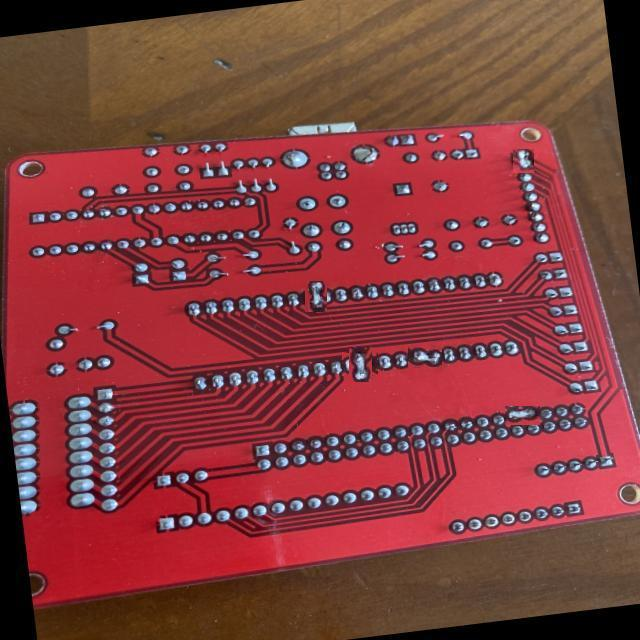damged: (346, 350, 375, 379), (302, 282, 330, 310), (408, 346, 442, 368), (504, 405, 540, 425), (512, 148, 534, 173)
